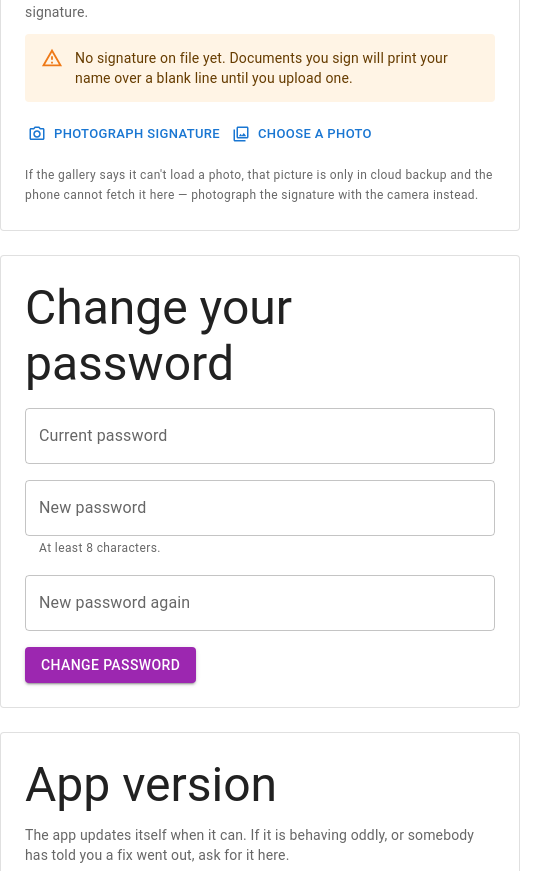
Test: ProfilePage › refuses a mistyped confirmation without troubling the server
This screenshot has width=537, height=871.
(page scrolled)
In the password field labelled "Current password": (260,436) [25,408,495,464], type "OldPass@123"
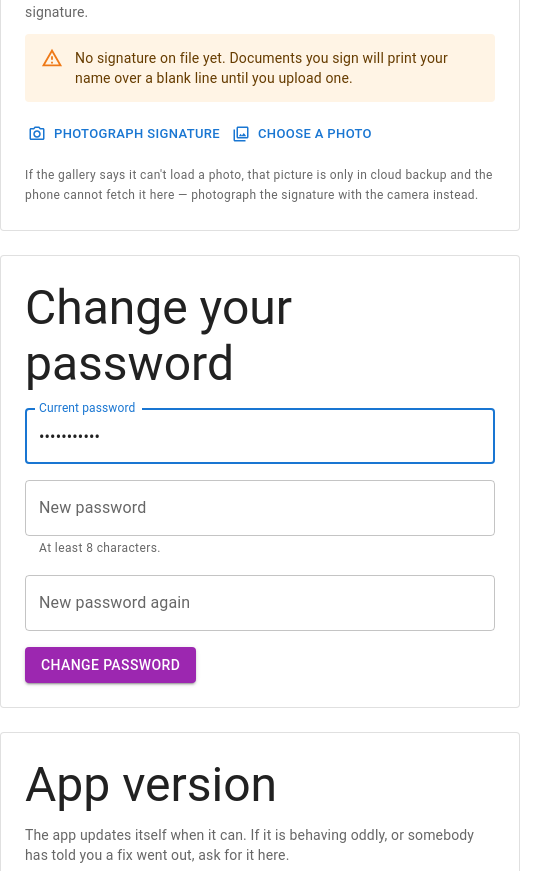
In the password field labelled "New password": (260,508) [25,480,495,536], type "BrandNew@456"
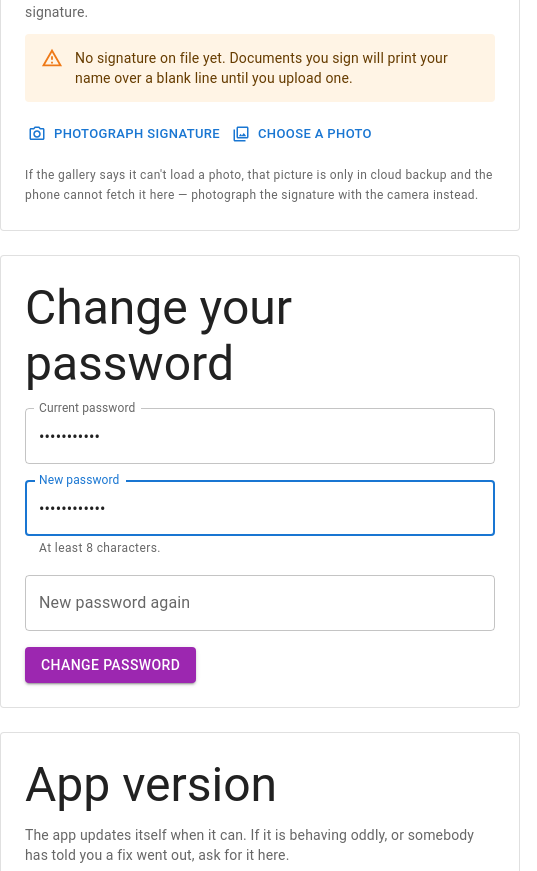
In the password field labelled "New password again": (260,603) [25,575,495,631], type "BrandNew@457"
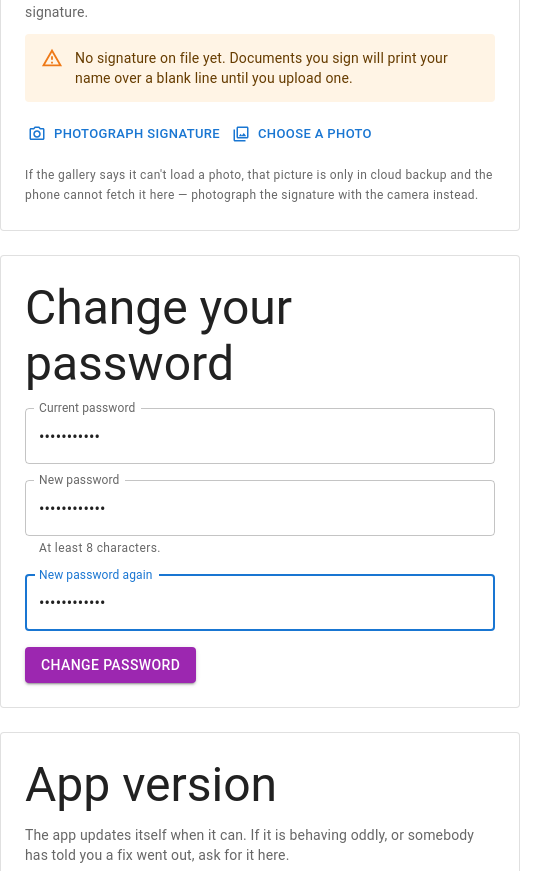
Click the button "Change password": (111,665) [25,647,196,683]
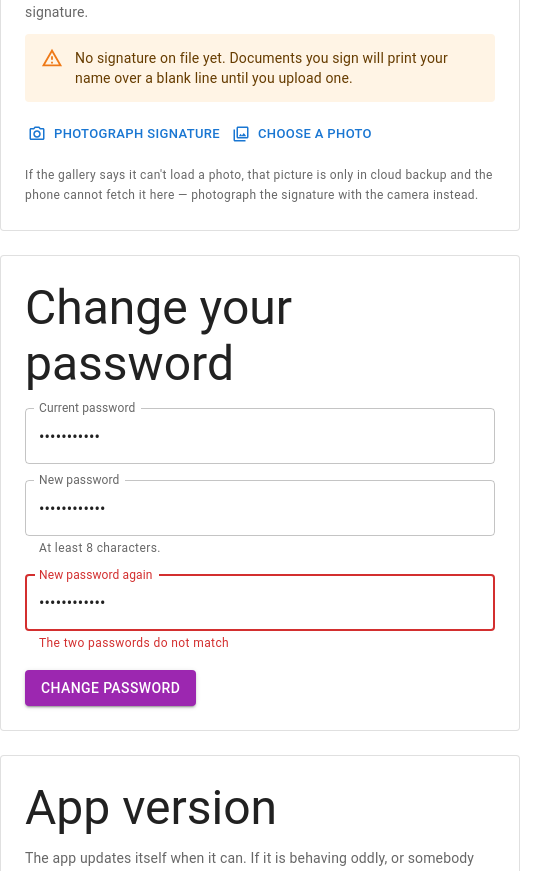
Check: the text "The two passwords do not match" is shown, box [39,636,229,650]
